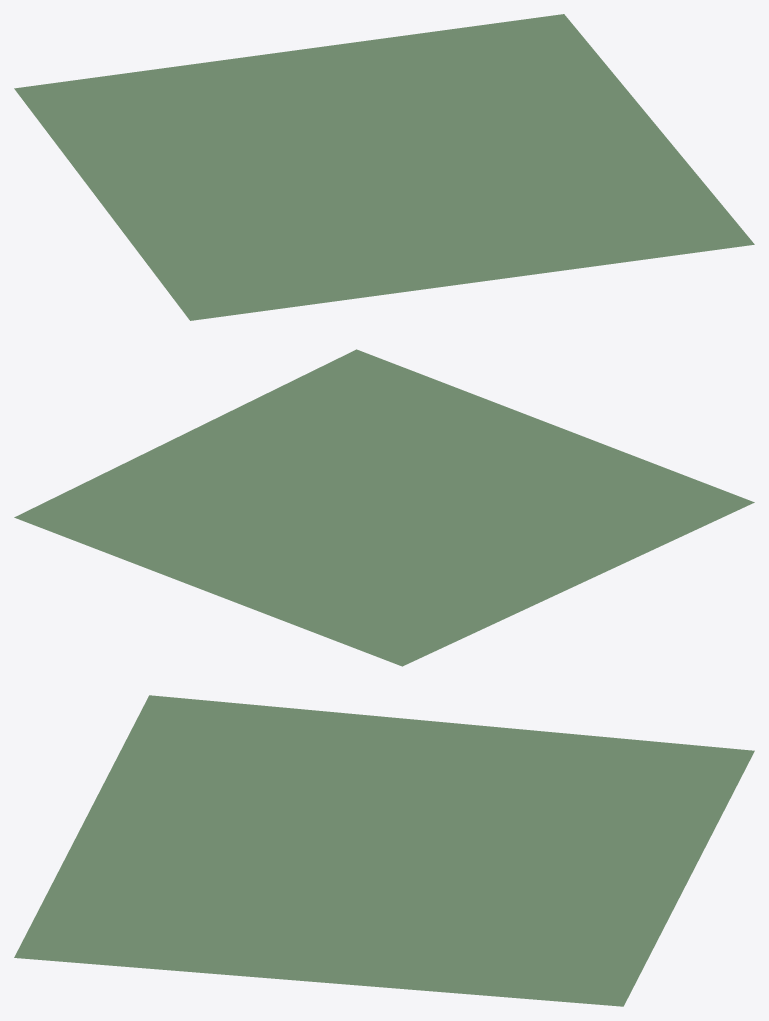
The model's file is xvay-ton-lake-lod.glb.
3 views of the same model, one above another, from view 1: azimuth 30°, elevation 25°; view 2: azimuth 150°, elevation 25°; view 3: azimuth 270°, elevation 25° (orthographic). The views are drawn at different scales.
Parts seen in each view (by area): view 1: xvay-ton-lake; view 2: xvay-ton-lake; view 3: xvay-ton-lake.
Part boxes in pixels (bbox=[...]): xvay-ton-lake: bbox=[14, 14, 754, 320]; xvay-ton-lake: bbox=[14, 349, 754, 666]; xvay-ton-lake: bbox=[14, 695, 754, 1006].
Bounding box in the file's own units: 45.21 × 0 × 45.45.
